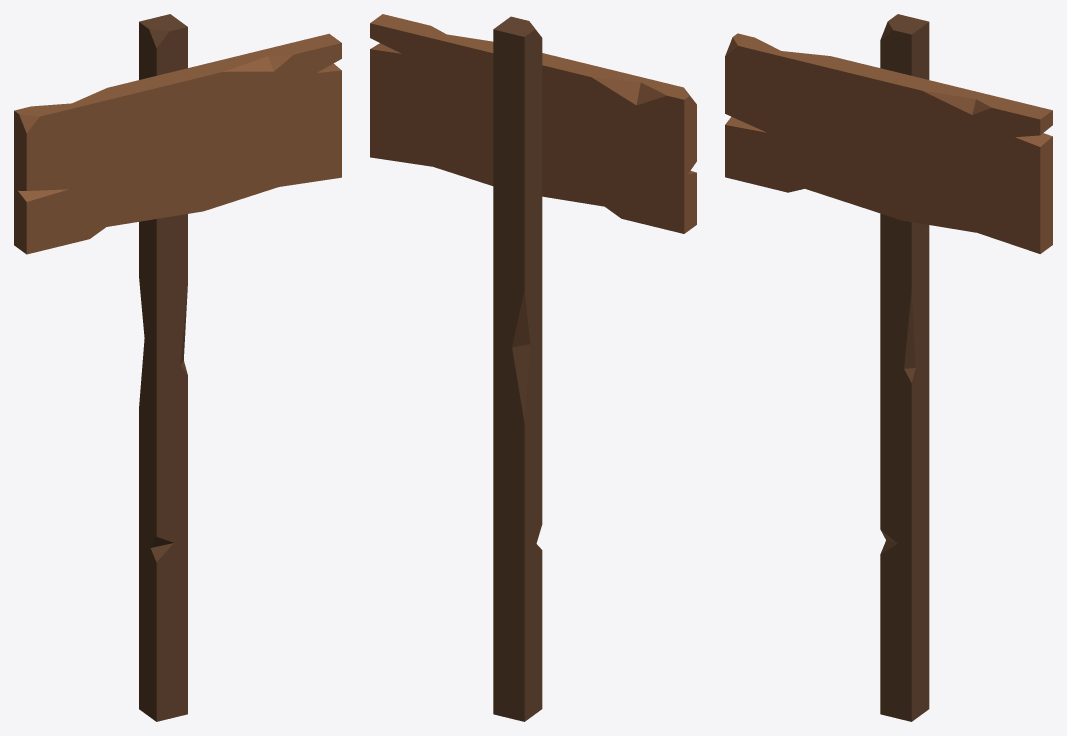
The model's file is sign.gltf.
3 views of the same model, side by side, from view 1: azimuth 30°, elevation 25°; view 2: azimuth 150°, elevation 25°; view 3: azimuth 330°, elevation 25° (orthographic).
Parts seen in each view (by area): view 1: NameplateV1; view 2: NameplateV1; view 3: NameplateV1.
Boxes of the visible parts, x1,y1,x2,y2 form: NameplateV1: [14, 14, 341, 721]; NameplateV1: [370, 14, 696, 721]; NameplateV1: [725, 14, 1052, 721].
Bounding box in the file's own units: 0.72 × 1.5 × 0.12.
Materials: 1 (1 with a texture image).
